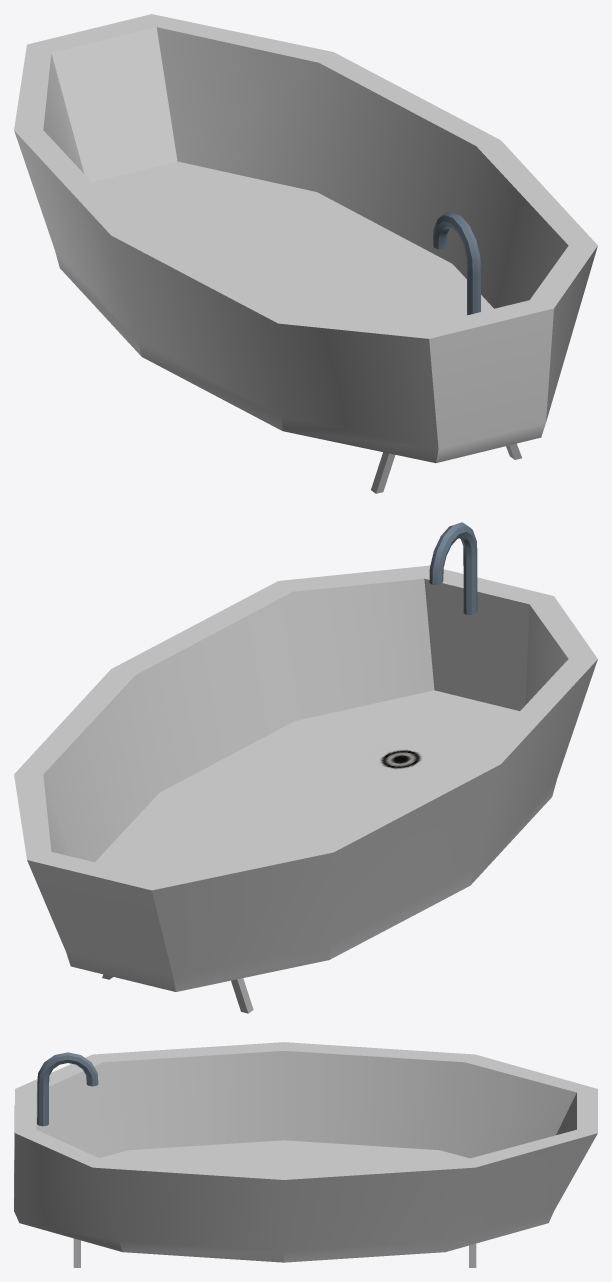
The model's file is bathtub.fbx.
The picture shows the model from 3 angles, top to bottom: view 1: azimuth 30°, elevation 25°; view 2: azimuth 150°, elevation 25°; view 3: azimuth 270°, elevation 25°; orthographic projection. The views are drawn at different scales.
Visible parts, largest first — view 1: polySurface2; view 2: polySurface2; view 3: polySurface2.
Boxes of the visible parts, left/top/right/bottom form: polySurface2: left=14, top=14, right=597, bottom=493; polySurface2: left=14, top=522, right=597, bottom=1013; polySurface2: left=14, top=1042, right=597, bottom=1267.
Bounding box in the file's own units: 1.81 × 1.17 × 3.24.
